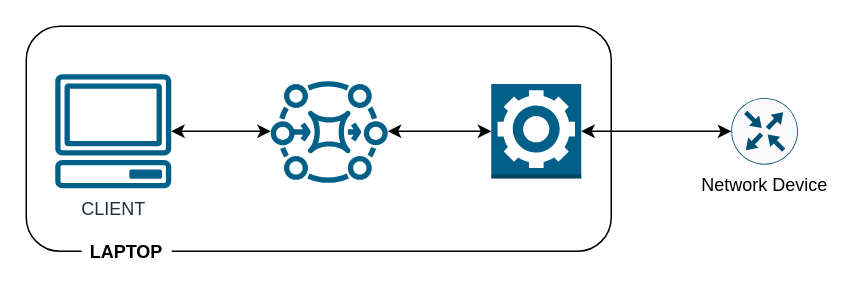
Image size: 854x294. Some labels were removed from this diagram. Here are the shapes that lost their labels. From the top down, the box of each, then its label:
(270, 72, 387, 189): BROKER
(490, 82, 581, 178): WORKER
